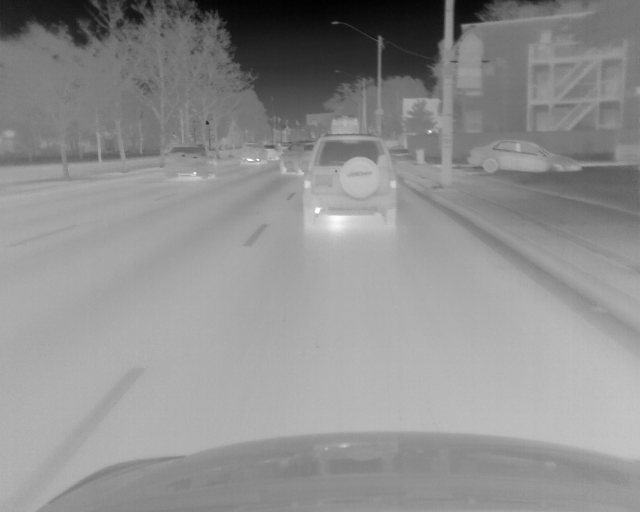car: (302, 135, 396, 231), (468, 138, 583, 179), (163, 141, 216, 181), (281, 142, 314, 175), (240, 142, 266, 165), (266, 143, 281, 162)
